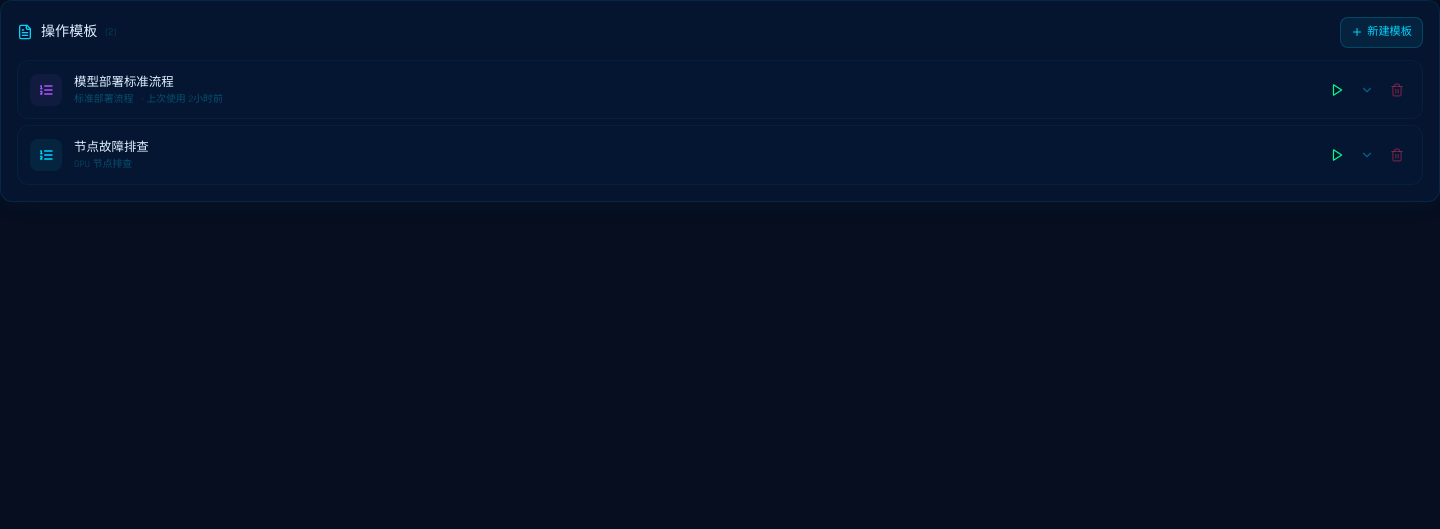
Scenario: OperationTemplate › 新建表单 (扩展) › 点击取消按钮应关闭创建表单
The width and height of the screenshot is (1440, 529).
Step 1. Click the button with test id "add-template-btn" → (1382, 32), box [1340,17,1423,48]
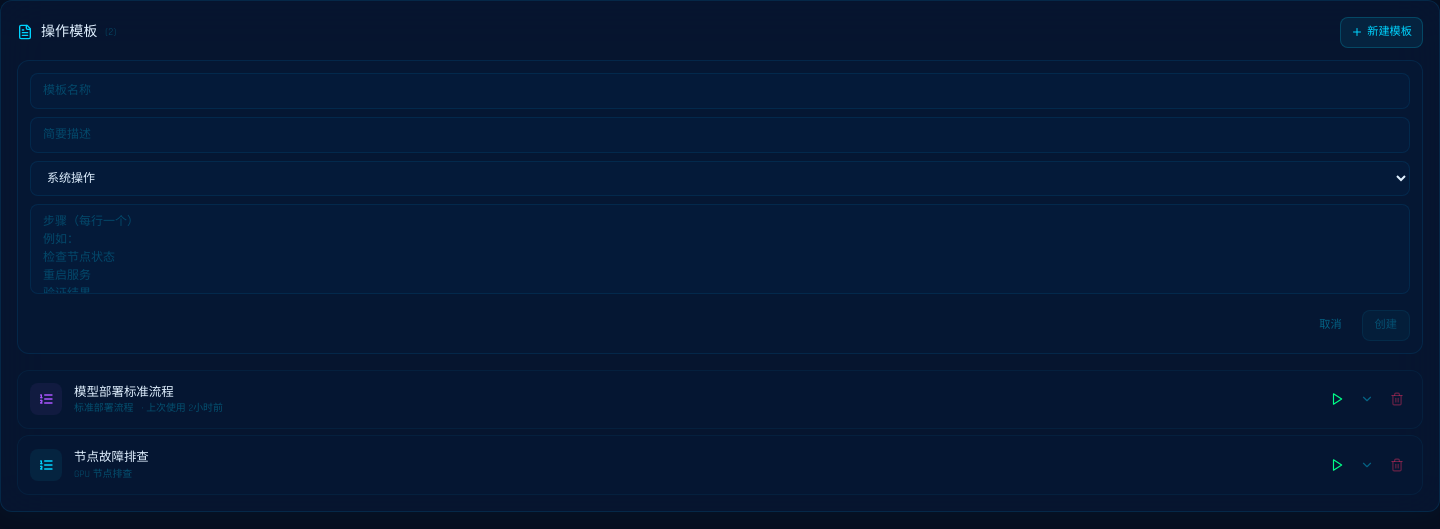
Step 2. Click the button "取消" → (1330, 325), box [1307,310,1354,341]
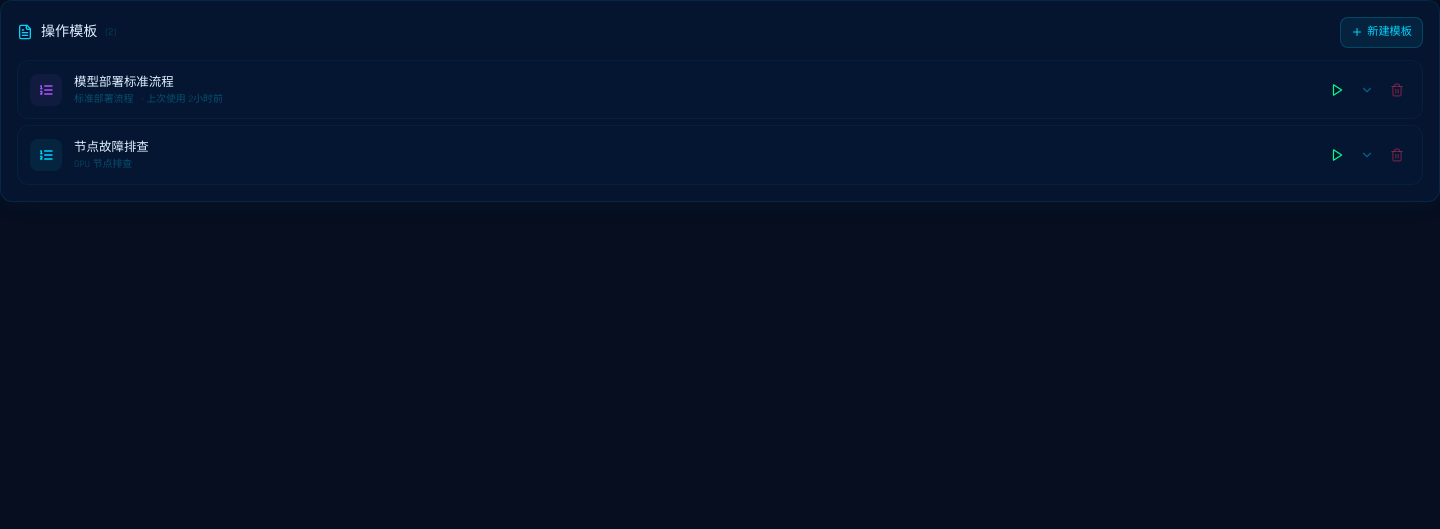
expect the field with test id "template-name-input" is gone: met
